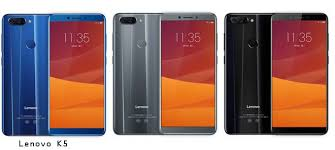lenovo: (268, 9, 331, 136), (45, 10, 107, 139), (157, 9, 219, 138), (223, 10, 270, 137), (111, 9, 158, 136), (1, 10, 47, 138)
